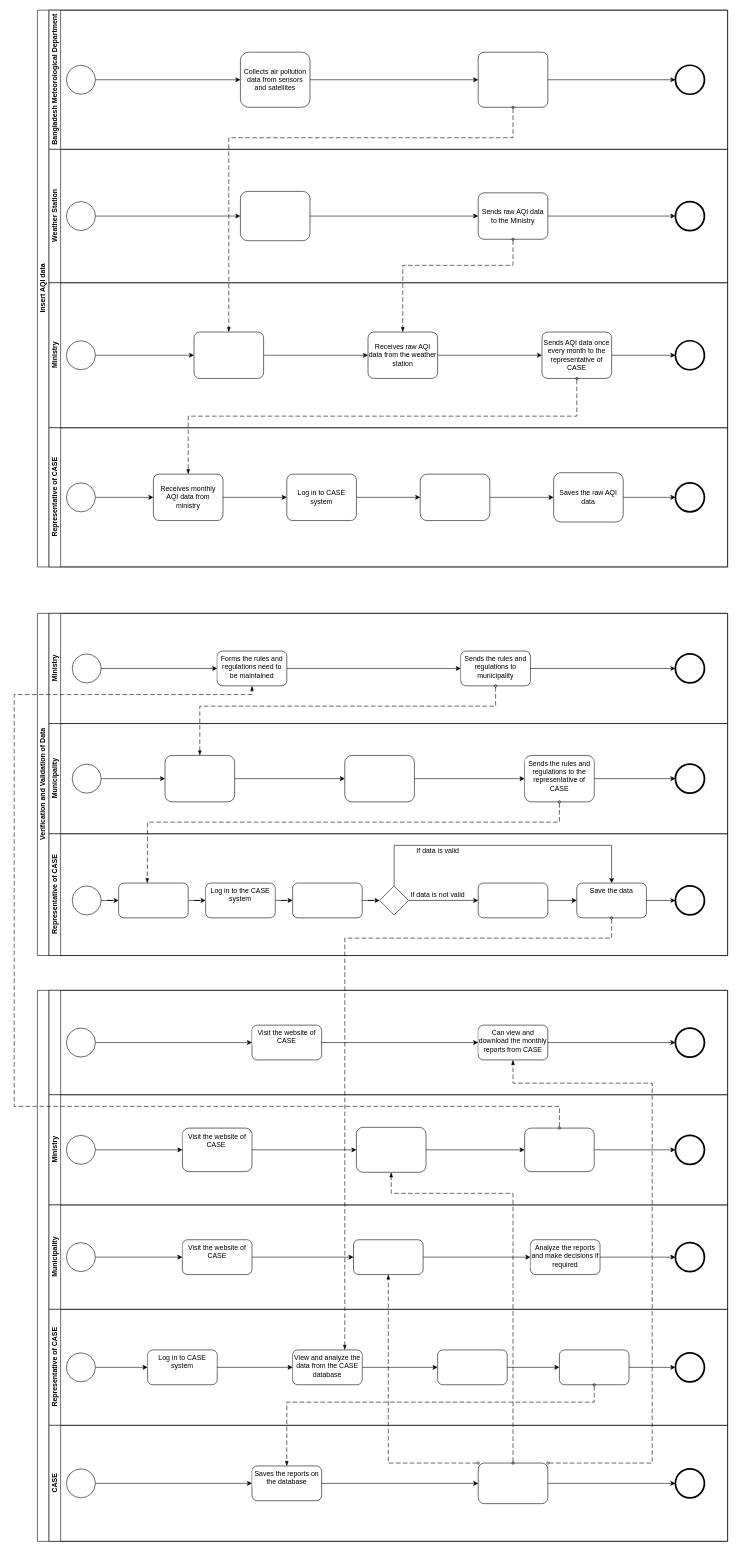
Some shapes in this 738 by 1552 pixel diagram are drawn without their labels. Here are the shapes that lost their labels. From the top down, the box of each, then its label:
(478, 52, 548, 107): Sends Air Pollution Data to the Ministry
(240, 191, 310, 241): Collects AQI data from sensors and satellites
(193, 331, 264, 378): Receives Air Pollution data from Bangladesh meteorological department
(420, 474, 490, 521): Inserts the raw AQI monthly data
(164, 755, 235, 802): Receives the rules and regulations from the ministry
(344, 755, 414, 802): Checks and corrects the rules and regulations if required
(118, 882, 188, 918): Receives the rules and regulations from municipality
(292, 882, 362, 918): Views the data
(478, 882, 548, 918): Delete the anomaly and update the data
(48, 990, 728, 1095): User
(356, 1127, 426, 1172): Views and downloads the monthly report from the website
(524, 1128, 594, 1172): Analyze the reports and form new rules and regulations if required
(37, 990, 728, 1541): Report Generation & Analyzing
(353, 1239, 423, 1275): View and download the monthly reports from CASE
(437, 1349, 507, 1385): Creates monthly reports
(559, 1349, 629, 1385): Post the monthly reports on the CASE website
(478, 1462, 548, 1504): Presents the reports posted by the representative of CASE on the website
